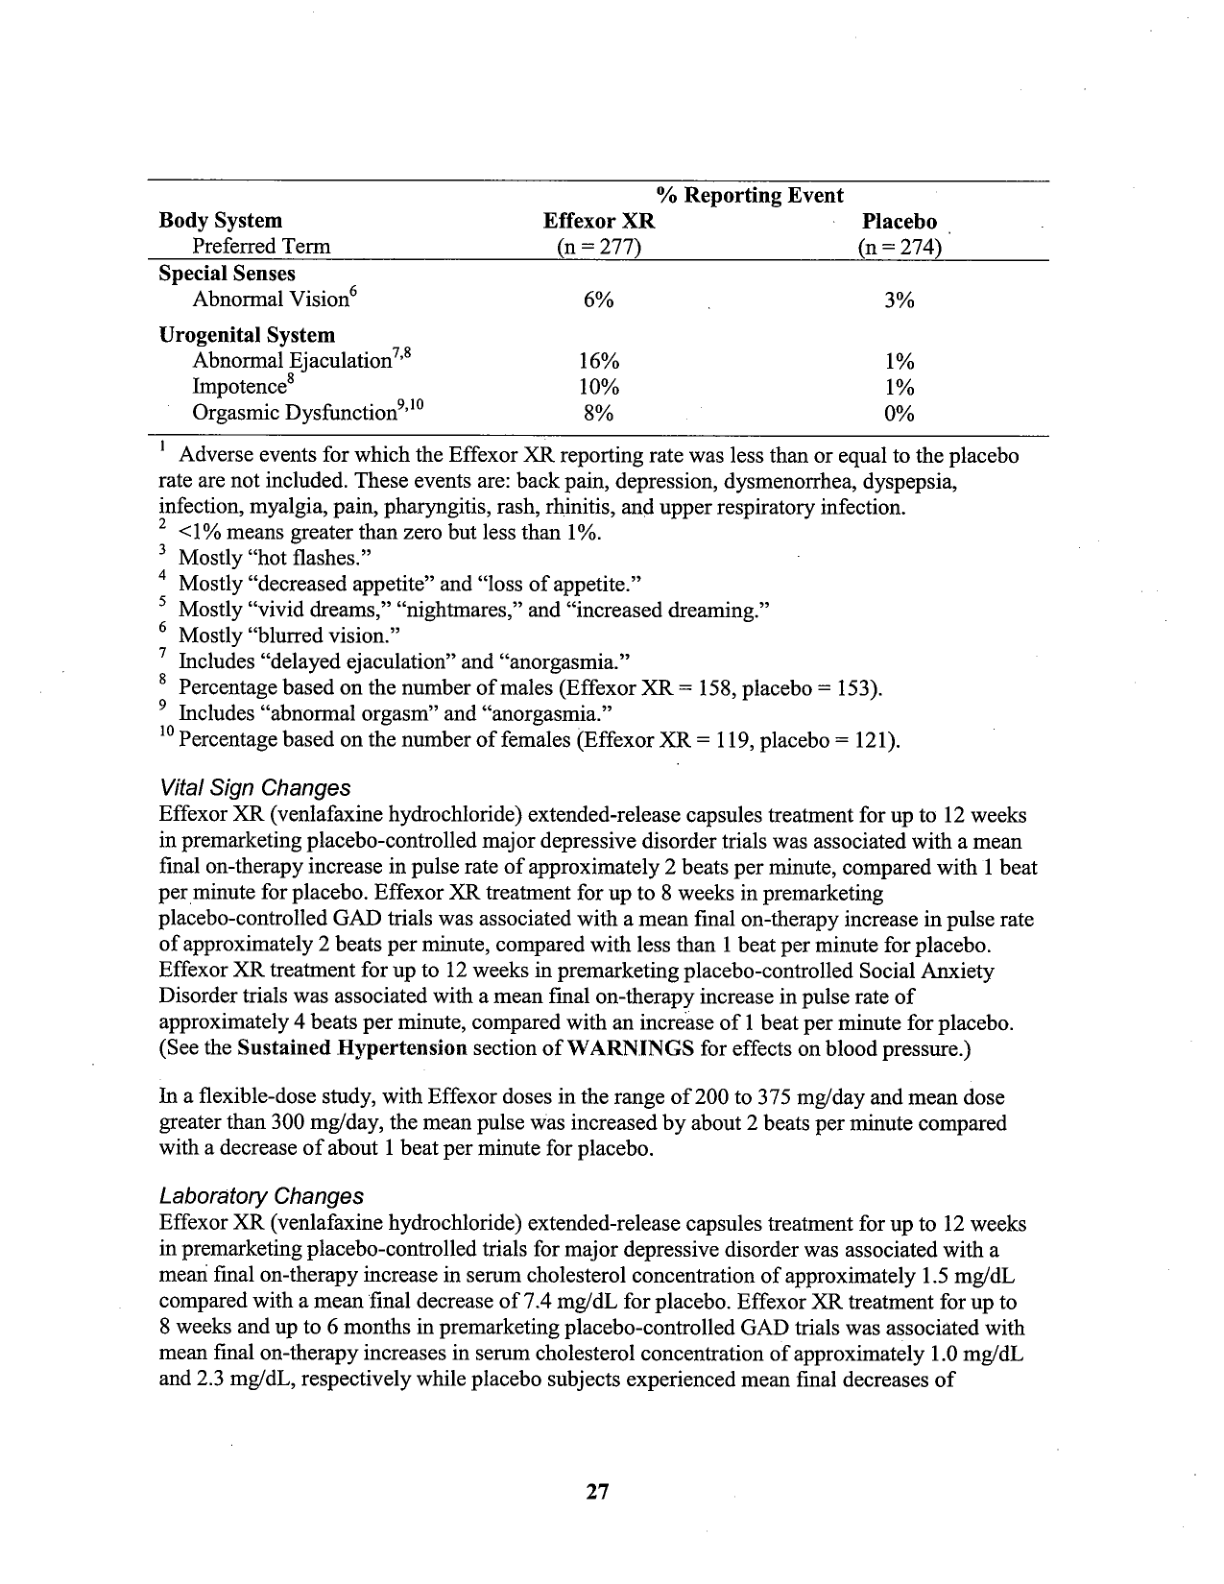partial_lined_merged_cells: (145, 175, 1053, 438)
